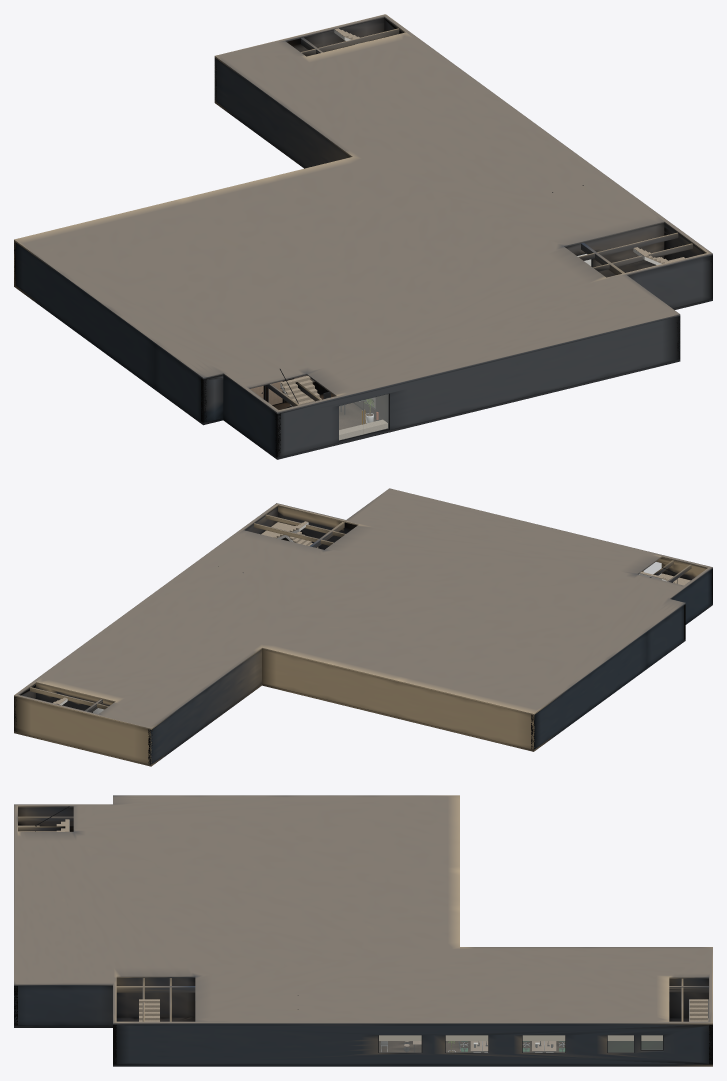
The model's file is Final_Office_Interior_web_realism.glb.
3 renders of one model, top to bottom at view 1: azimuth 30°, elevation 25°; view 2: azimuth 150°, elevation 25°; view 3: azimuth 270°, elevation 25°, orthographic. The views are drawn at different scales.
Visible parts, largest first — view 1: WEB_SHELL_OVERHEAD, WEB_SHELL_INTERIOR, D01 door (glass2) Main gate 140"; view 2: WEB_SHELL_OVERHEAD, WEB_SHELL_INTERIOR; view 3: WEB_SHELL_OVERHEAD, WEB_SHELL_INTERIOR, W10 glass, W08 glass, W09 glass, W07 glass, ST3 south-east stair, flight 2 (layout ASSUMED), ST2 north-east stair, flight 2 (layout ASSUMED).
Boxes of the visible parts, x1,y1,x2,y2 form: WEB_SHELL_OVERHEAD: [14, 14, 712, 413]; WEB_SHELL_INTERIOR: [14, 18, 712, 459]; D01 door (glass2) Main gate 140": [339, 394, 388, 441]; WEB_SHELL_OVERHEAD: [14, 488, 712, 729]; WEB_SHELL_INTERIOR: [14, 506, 712, 766]; WEB_SHELL_OVERHEAD: [14, 795, 712, 1024]; WEB_SHELL_INTERIOR: [14, 807, 712, 1066]; W10 glass: [379, 1035, 421, 1052]; W08 glass: [523, 1035, 564, 1052]; W09 glass: [446, 1035, 487, 1052]; W07 glass: [608, 1035, 633, 1052]; ST3 south-east stair, flight 2 (layout ASSUMED): [139, 999, 159, 1021]; ST2 north-east stair, flight 2 (layout ASSUMED): [689, 999, 708, 1021].
Size of the model in its own units: 35.59 by 4.19 by 46.1.
79 materials, 36 textured.
